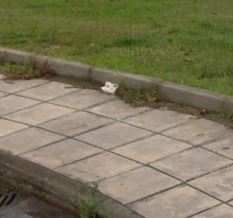trash: (97, 75, 121, 98)
